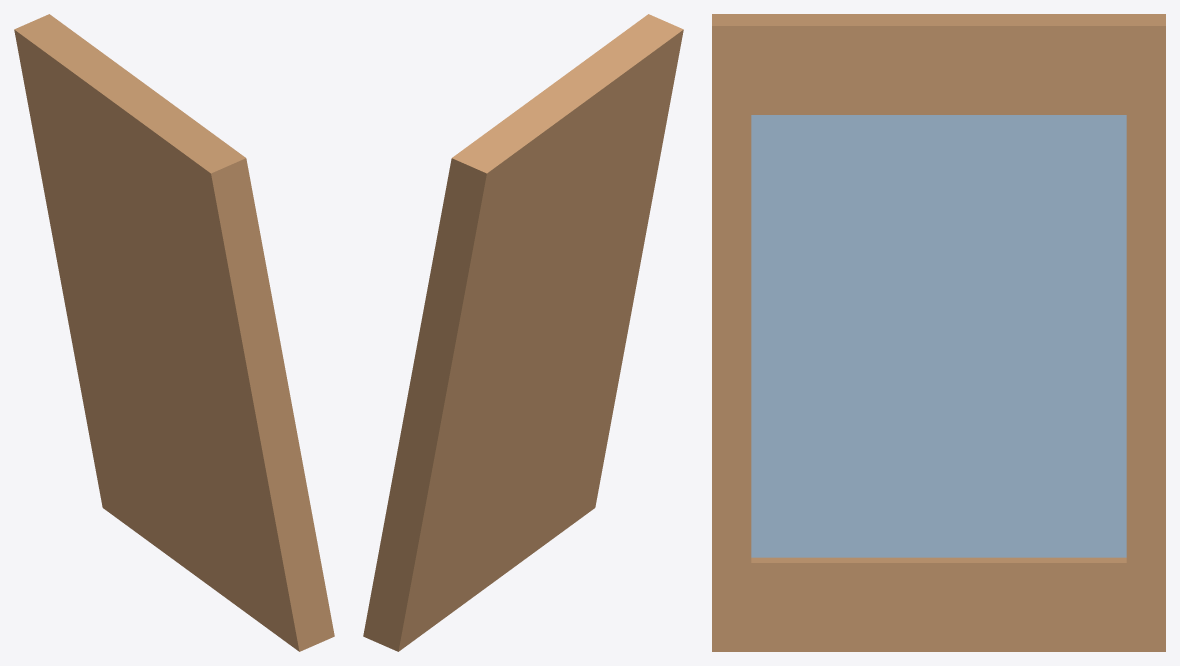
The model's file is frame.fbx.
3 renders of one model, left to right at view 1: azimuth 30°, elevation 25°; view 2: azimuth 150°, elevation 25°; view 3: azimuth 270°, elevation 25°, orthographic. The views are drawn at different scales.
Parts seen in each view (by area): view 1: Cube.111; view 2: Cube.111; view 3: Cube.111.
Part boxes in pixels (x1,y1,x2,y2): Cube.111: (14, 14, 334, 651); Cube.111: (363, 14, 683, 651); Cube.111: (712, 14, 1165, 651).
Bounding box in the file's own units: 9.83 × 38.47 × 27.09.
